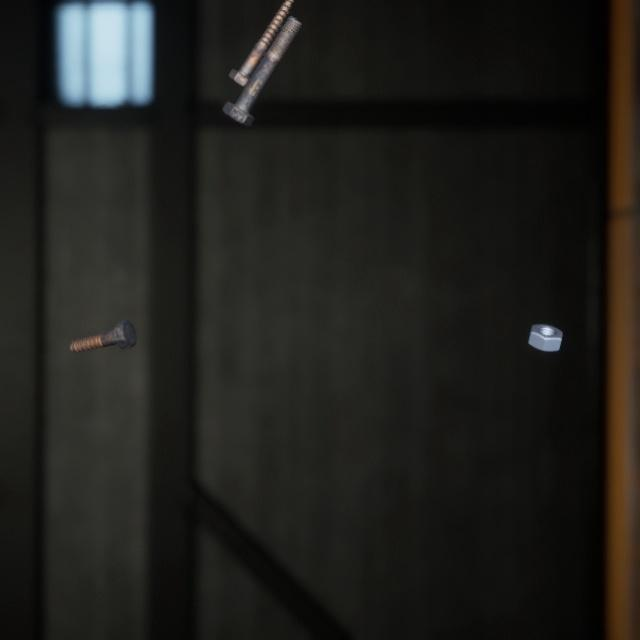bolt: (218, 1, 306, 120), (224, 0, 293, 82), (65, 297, 141, 339)
nut: (523, 301, 567, 337)
